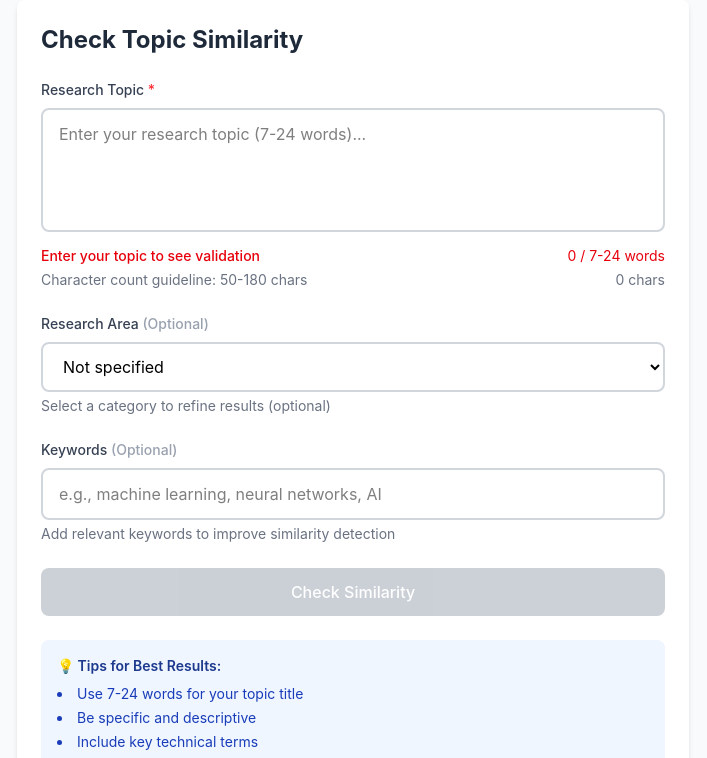
TopicForm Component › User Interaction Tests › 14. error state shows error message
Type "Machine learning algorithms for natural language processing tasks" into the text box with placeholder "Enter your research topic (7-24 words)..." at [353, 170], box x1=41 y1=108 x2=665 y2=232
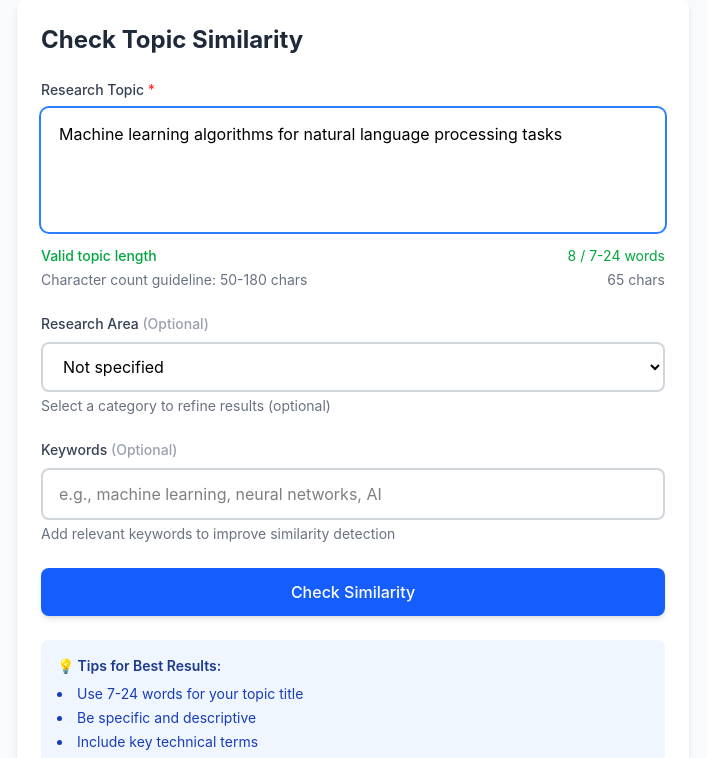
Click the button "Check Similarity" at [353, 592], box x1=41 y1=568 x2=665 y2=616
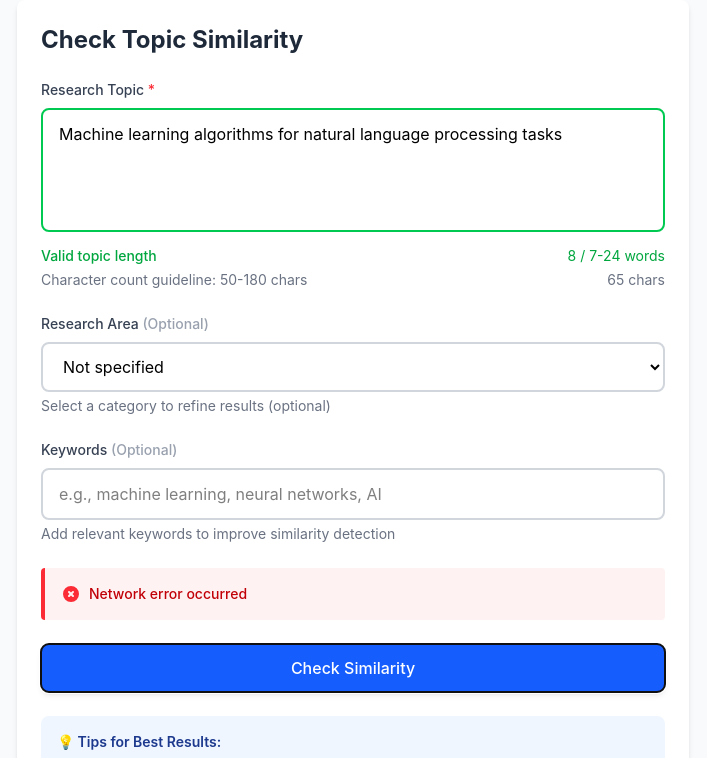
Check: the text "Network error occurred" is shown, box x1=89 y1=584 x2=247 y2=604
